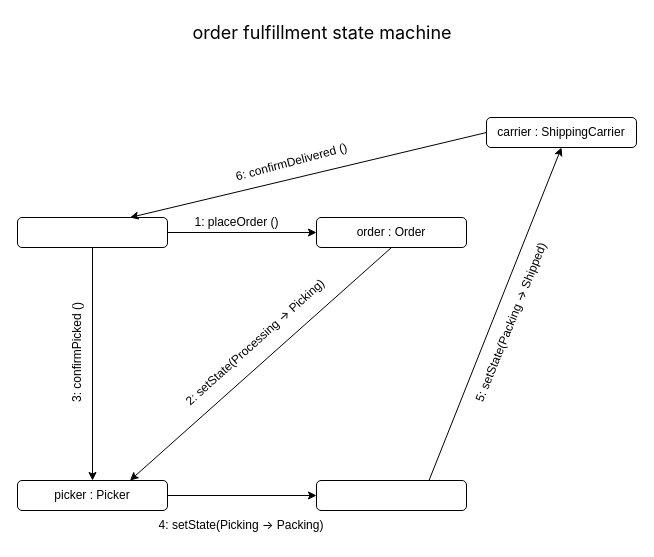
Image size: 654x557. Some labels were removed from this diagram. The shapes that lost their labels are listed below. From the top down, each one's centre as x and y in pixels, then its label:
(x=92, y=232): customer : Customer
(x=391, y=495): packer : Packer
